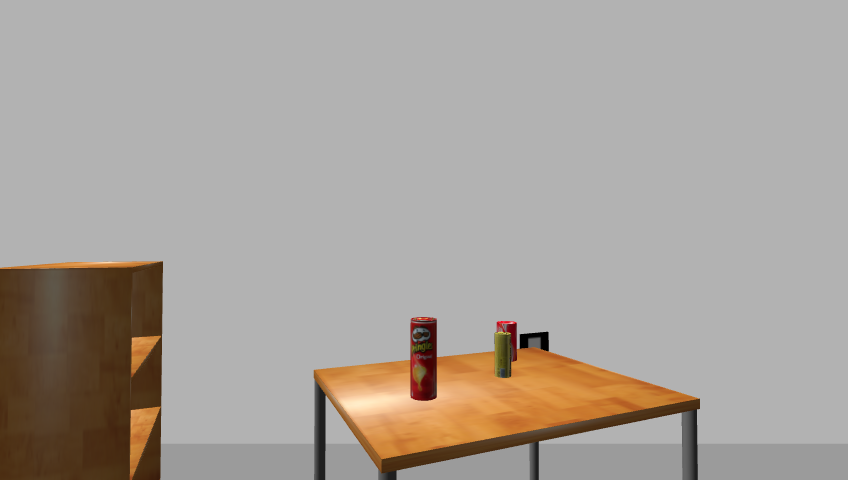aruco marker: (515, 330, 552, 356)
biscuits pack: (494, 332, 512, 378)
bookshelf: (0, 260, 171, 479)
coke can: (495, 320, 518, 361)
dinner table: (304, 344, 709, 480)
pringles can: (408, 316, 440, 403)
